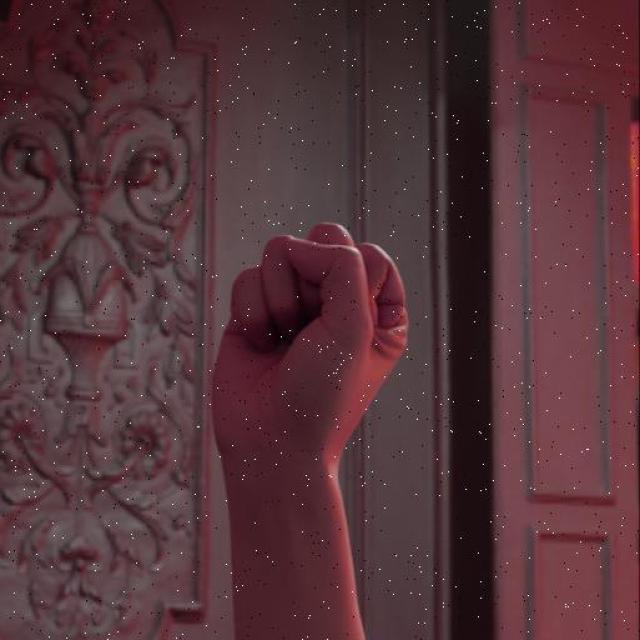S: (206, 216, 419, 489)
